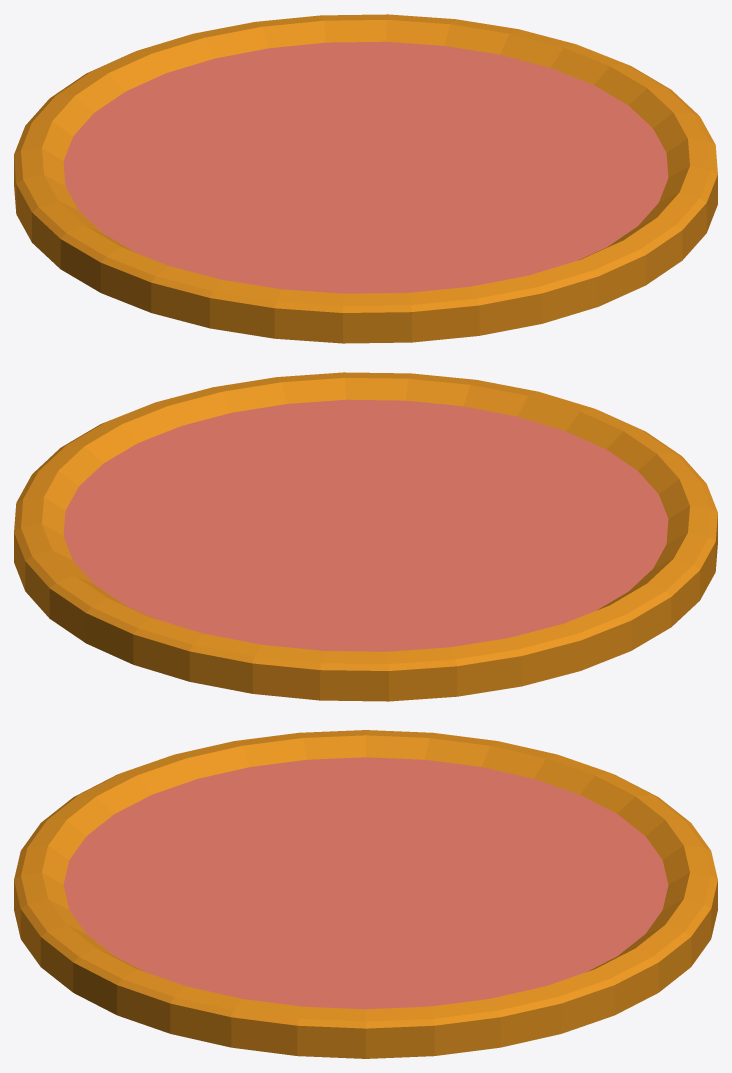
The model's file is Pizza.fbx.
3 renders of one model, top to bottom at view 1: azimuth 30°, elevation 25°; view 2: azimuth 150°, elevation 25°; view 3: azimuth 270°, elevation 25°, orthographic.
Parts seen in each view (by area): view 1: Cylinder; view 2: Cylinder; view 3: Cylinder.
Boxes of the visible parts, box(x1,y1,x2,y2) form: Cylinder: box(14, 14, 717, 343); Cylinder: box(14, 372, 717, 701); Cylinder: box(14, 730, 717, 1058).
Size of the model in its own units: 1639 by 97.34 by 1639.
